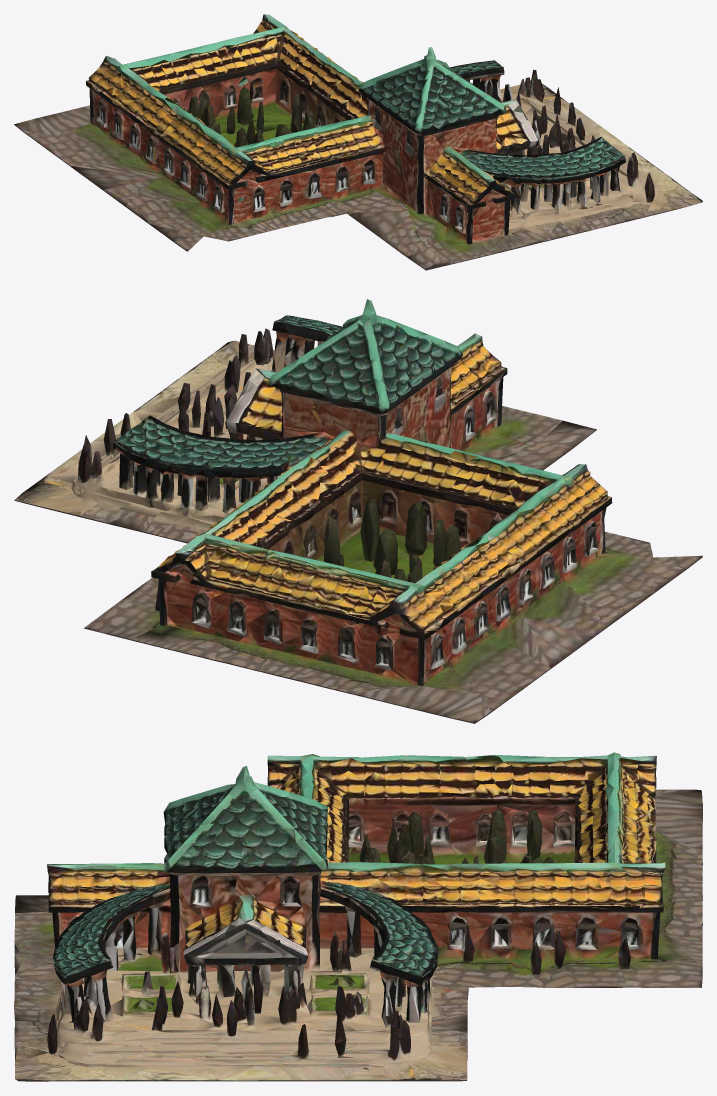
Rendered from universita.glb.
The picture shows the model from 3 angles, top to bottom: view 1: azimuth 30°, elevation 25°; view 2: azimuth 150°, elevation 25°; view 3: azimuth 270°, elevation 25°; orthographic projection. The views are drawn at different scales.
Size of the model in its own units: 3 by 0.9115 by 3.
1 material, 1 textured.
